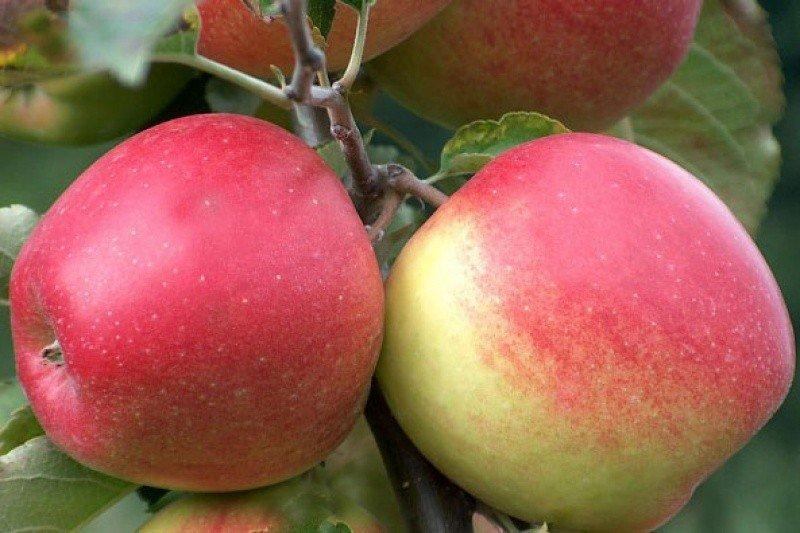apple: (379, 141, 797, 530), (5, 109, 392, 492), (369, 1, 695, 132)
